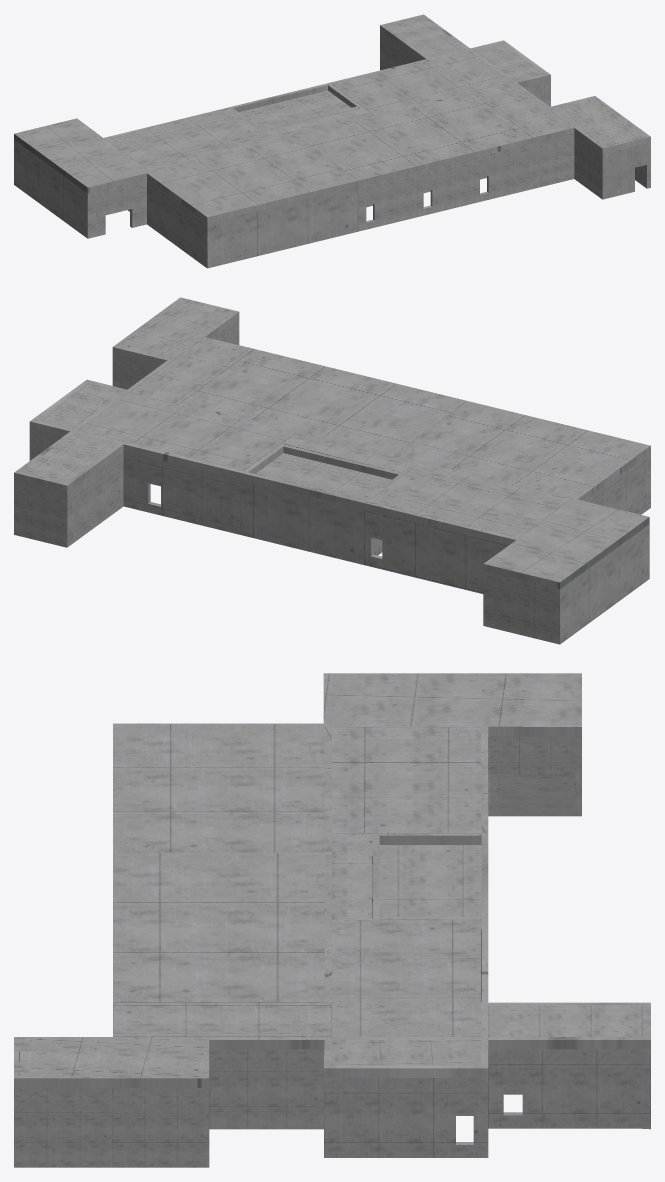
File: fABRICA-2.fbx
3 renders of one model, top to bottom at view 1: azimuth 30°, elevation 25°; view 2: azimuth 150°, elevation 25°; view 3: azimuth 270°, elevation 25°, orthographic. The views are drawn at different scales.
Visible parts, largest first — view 1: Box042; view 2: Box042; view 3: Box042.
Boxes of the visible parts, bbox=[...] form: Box042: bbox=[14, 14, 650, 268]; Box042: bbox=[14, 297, 650, 644]; Box042: bbox=[14, 673, 650, 1167].
Bounding box in the file's own units: 9643 × 996 × 6408.
